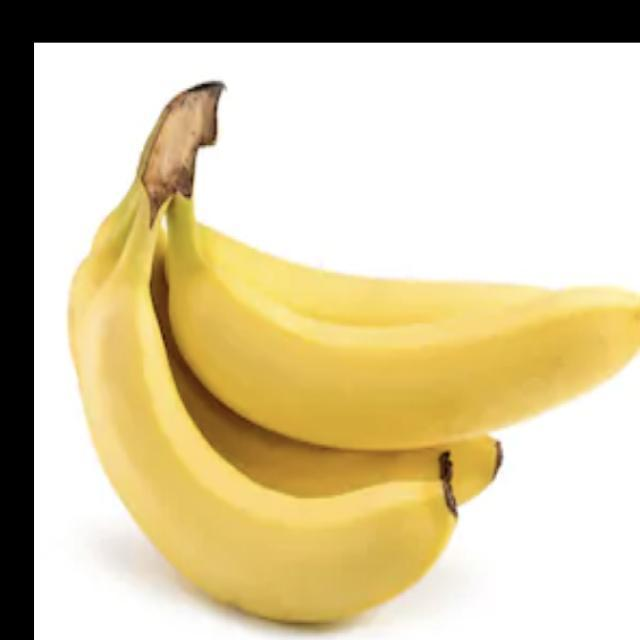Banana: (66, 79, 639, 626)
